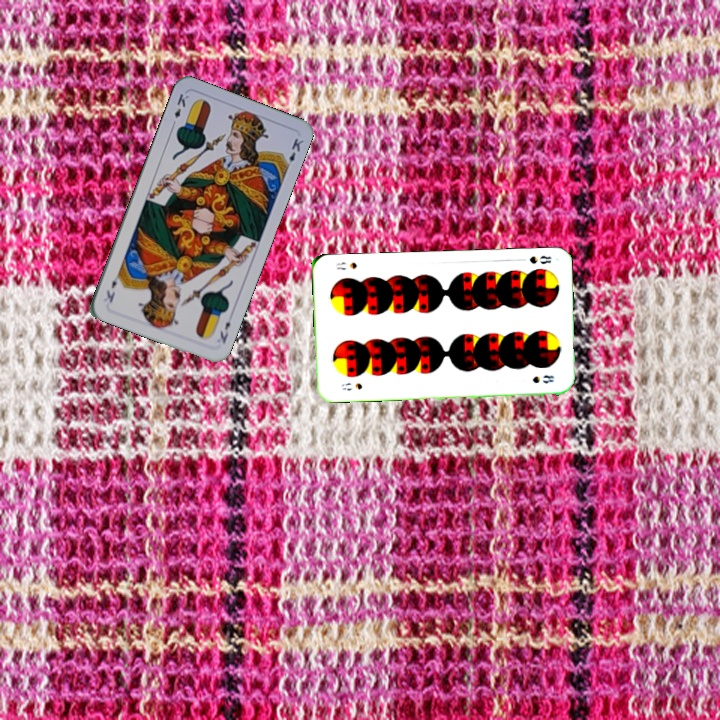EK: (168, 89, 191, 129), (216, 317, 233, 347)
S8: (515, 252, 554, 266), (338, 379, 364, 393)
